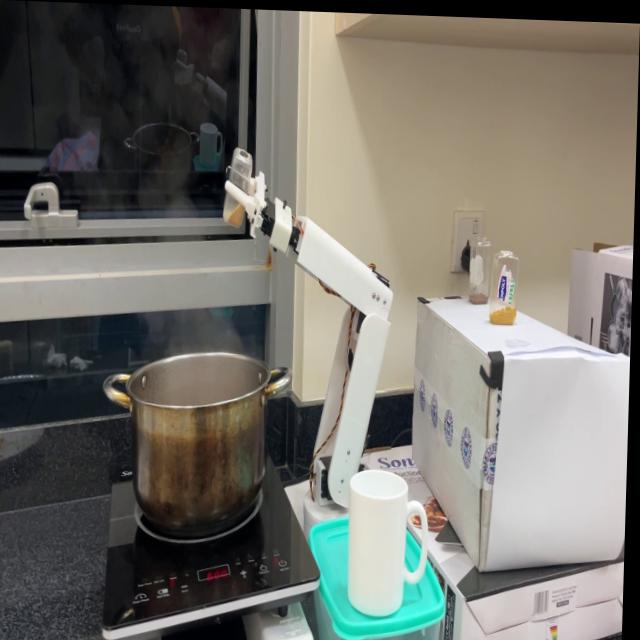cooking_pot: (102, 342, 297, 532)
curry_powder: (491, 297, 519, 320)
garlic_powder: (228, 192, 246, 229)
maggie_open: (470, 289, 488, 301)
